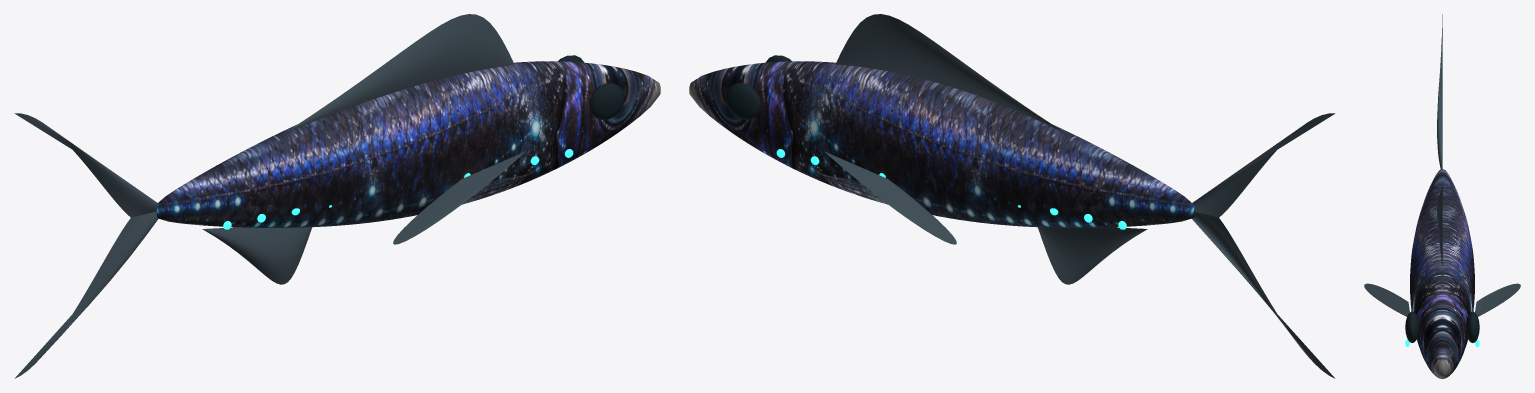
File: lanternfish.glb
The picture shows the model from 3 angles, left to right: view 1: azimuth 30°, elevation 25°; view 2: azimuth 150°, elevation 25°; view 3: azimuth 270°, elevation 25°; orthographic projection. The views are drawn at different scales.
Visible parts, largest first — view 1: lanternfish closed body, Fin dorsal, Fin anal, Fin caudal, Fin pectoral.001, Fin caudal.001, Eye.001; view 2: lanternfish closed body, Fin dorsal, Fin anal, Fin pectoral, Fin caudal.001, Fin caudal, Eye; view 3: lanternfish closed body, Fin pectoral.001, Fin pectoral, Fin caudal.001, Eye, Eye.001, Fin dorsal.
Part boxes in pixels (<box>): lanternfish closed body: <box>156,61,660,227</box>; Fin dorsal: <box>284,14,514,133</box>; Fin anal: <box>202,227,311,284</box>; Fin caudal: <box>14,211,158,378</box>; Fin pectoral.001: <box>393,151,525,244</box>; Fin caudal.001: <box>14,113,158,217</box>; Eye.001: <box>589,83,624,119</box>; lanternfish closed body: <box>689,61,1194,227</box>; Fin dorsal: <box>835,14,1065,133</box>; Fin anal: <box>1038,227,1147,284</box>; Fin pectoral: <box>824,151,956,244</box>; Fin caudal.001: <box>1192,113,1335,217</box>; Fin caudal: <box>1192,211,1335,378</box>; Eye: <box>725,83,760,119</box>; lanternfish closed body: <box>1410,169,1474,378</box>; Fin pectoral.001: <box>1364,283,1409,316</box>; Fin pectoral: <box>1475,283,1520,316</box>; Fin caudal.001: <box>1437,14,1442,169</box>; Eye: <box>1466,311,1479,342</box>; Eye.001: <box>1405,311,1418,342</box>; Fin dorsal: <box>1437,187,1442,265</box>.
Bounding box in the file's own units: 1.27 × 0.5 × 0.3364.
4 materials, 1 textured.
